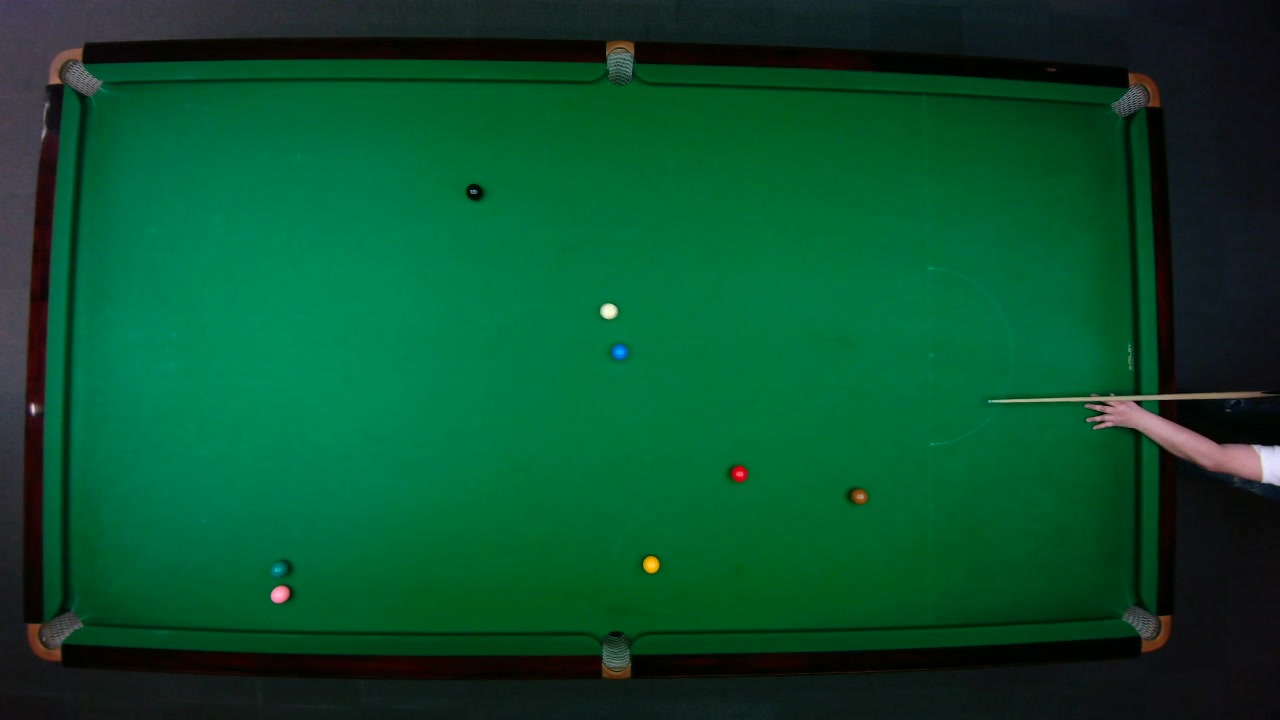bag: (25, 609, 84, 661), (45, 47, 102, 97), (1119, 603, 1171, 651), (1108, 72, 1161, 118), (601, 629, 630, 680), (605, 38, 633, 85)
black: (464, 182, 482, 200)
blue: (609, 342, 628, 360)
brown: (848, 487, 868, 504)
green: (269, 558, 289, 576)
pink: (269, 583, 290, 604)
red: (729, 464, 748, 482)
white: (598, 301, 619, 319)
yellow: (641, 554, 660, 573)
zone: (927, 265, 1013, 446)
